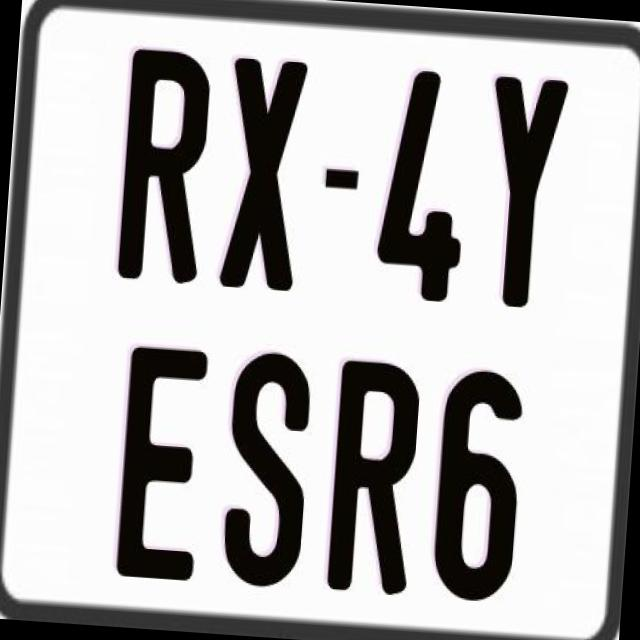4: (372, 68, 476, 303)
6: (429, 368, 524, 604)
E: (115, 340, 213, 580)
R: (115, 47, 218, 286), (323, 357, 425, 592)
S: (216, 348, 315, 590)
X: (219, 54, 309, 288)
Y: (477, 72, 567, 316)
